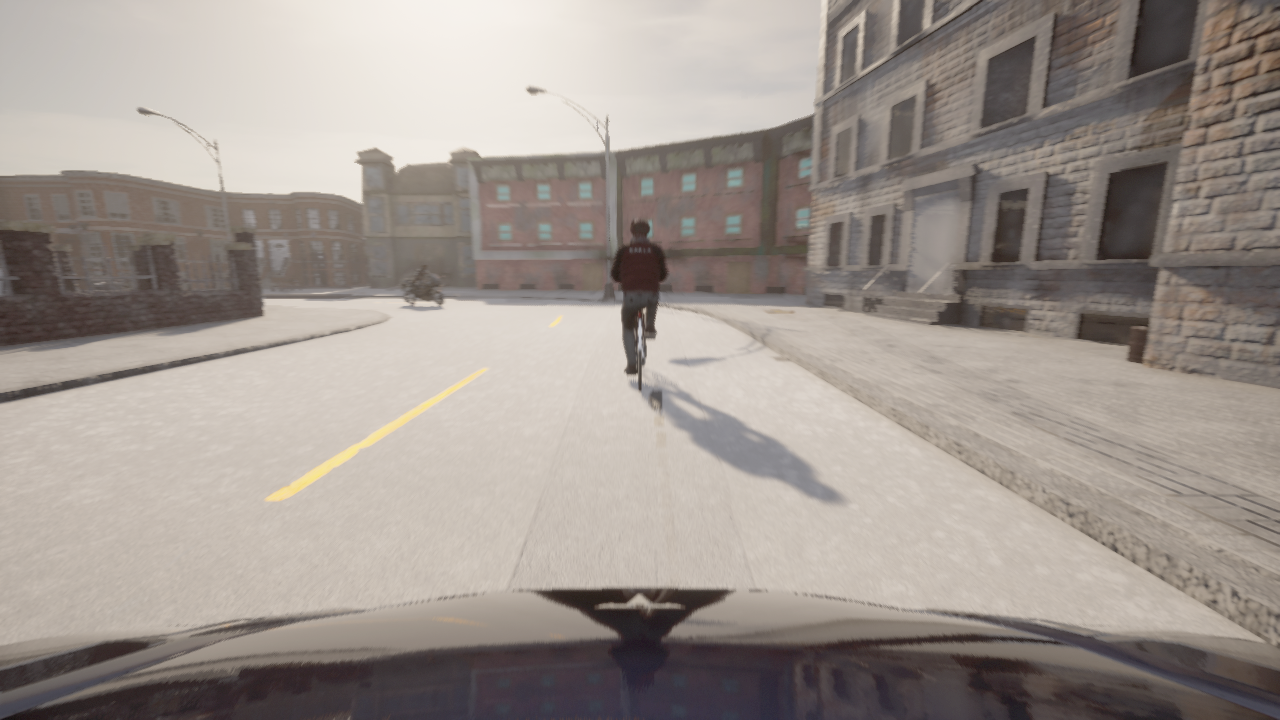cyclist: (0, 588, 1279, 719), (627, 311, 654, 391), (401, 274, 443, 306)
